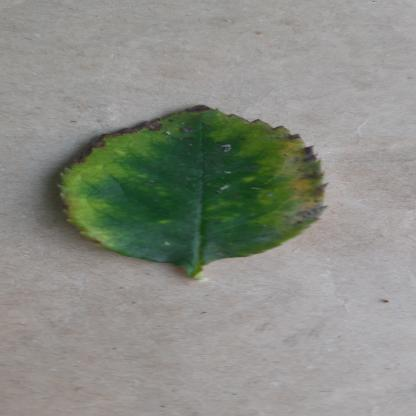black-spot: (43, 104, 334, 262)
